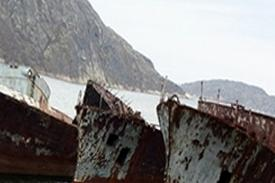rust: (1, 93, 78, 181), (203, 93, 274, 181), (82, 77, 127, 182), (128, 111, 176, 183), (159, 92, 205, 128)
